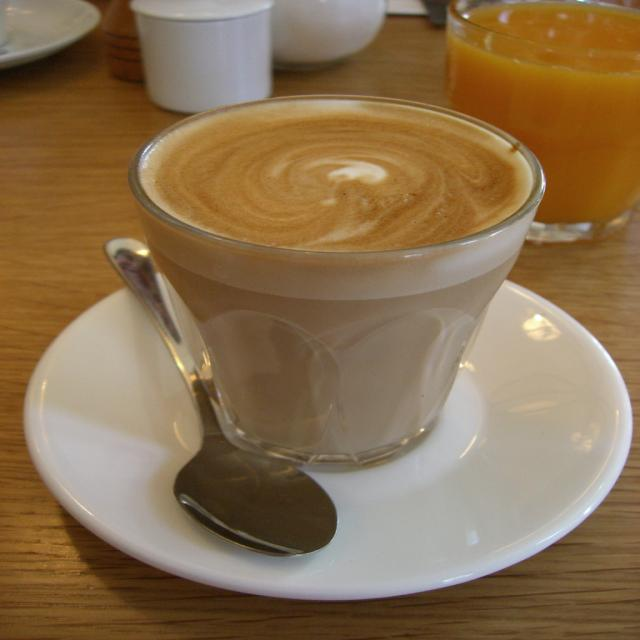Coffee: (127, 94, 546, 263)
